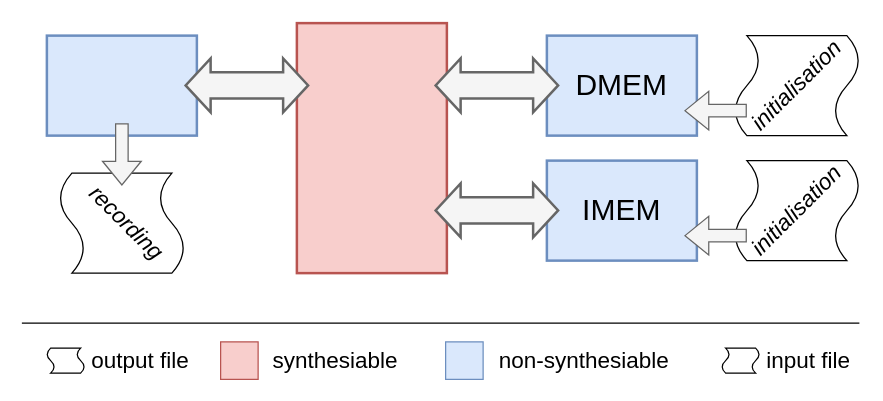
This 883x401 diagram has some shape labels left out. The centre of each missing label's shape, as x and y in pixels:
Basic IO: point (121, 85)
RISC-V: point (371, 147)
